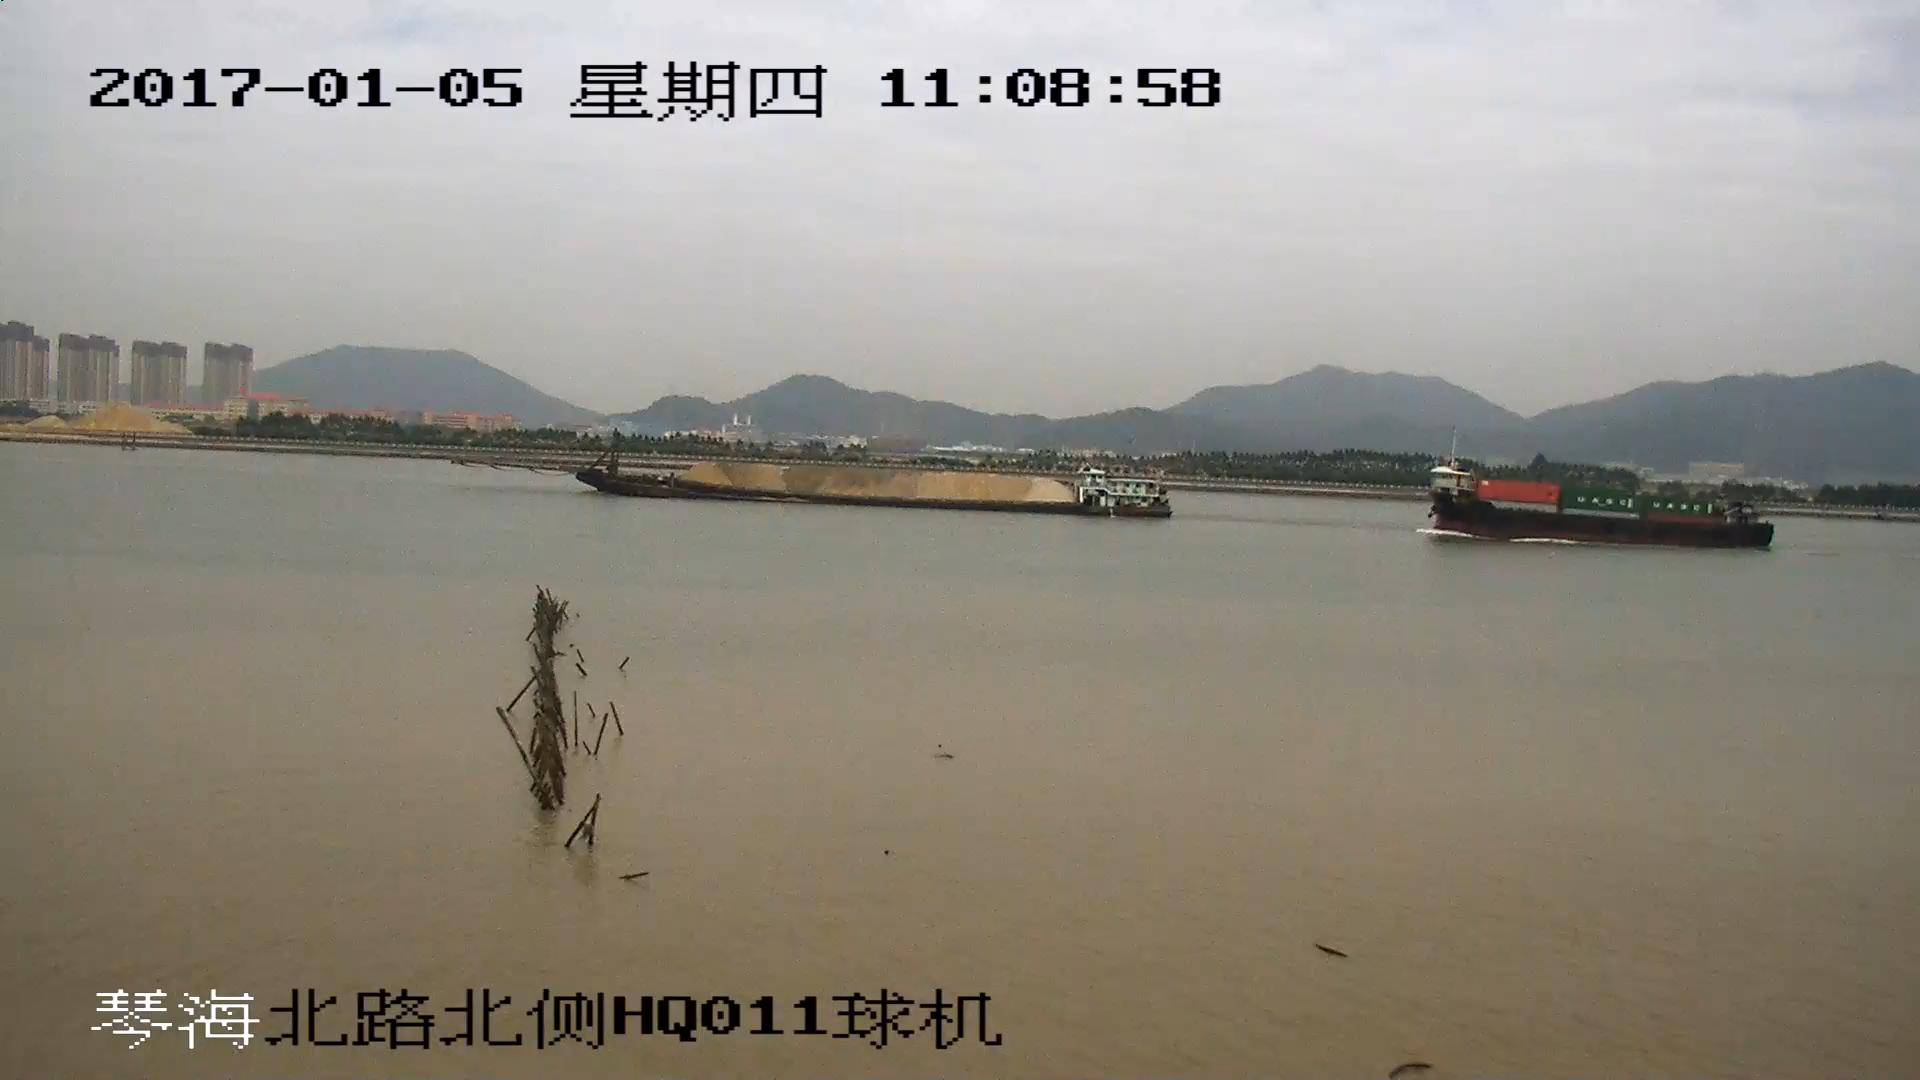container ship: (1428, 457, 1777, 542)
ore carrier: (470, 432, 1172, 518)
